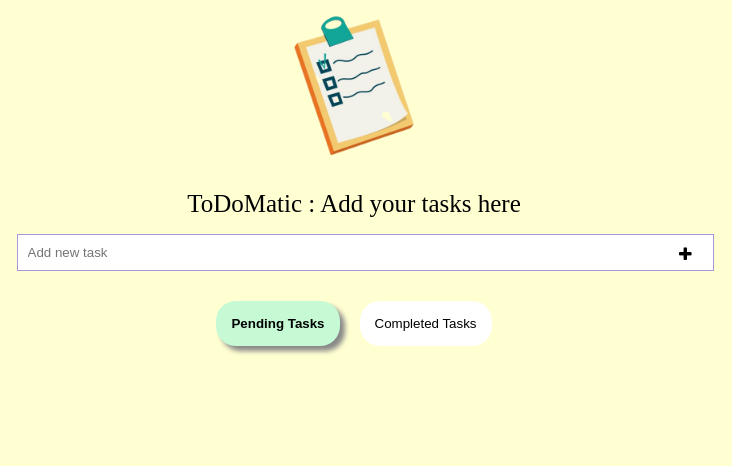
Test: Working of filter buttons › list of completed tasks to be shown if completedTasks button is active
Type "Homework at 4PM" into the field with test id "input-field" at (365,252), box top-left (16, 234), bottom-right (714, 271)
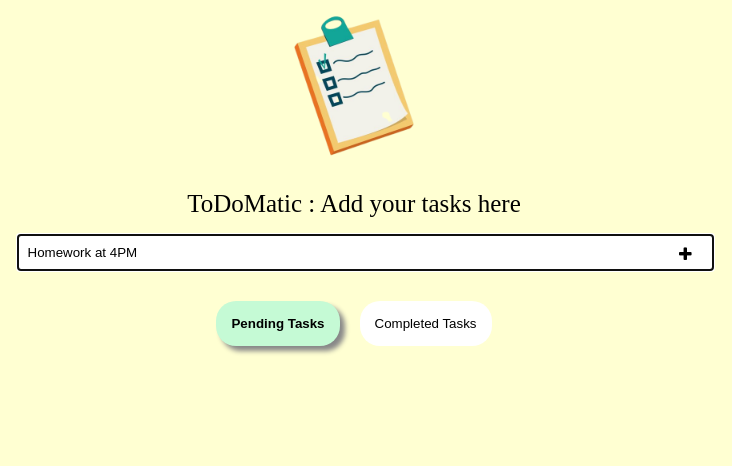
Click the icon with test id "plus icon" at (685,254), box top-left (679, 246), bottom-right (692, 262)
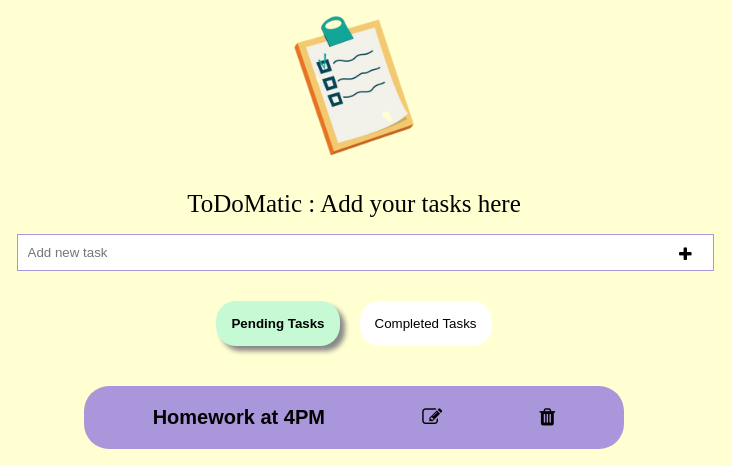
Click the icon with test id "deleteIcon" at (547,417), box top-left (540, 407), bottom-right (555, 427)
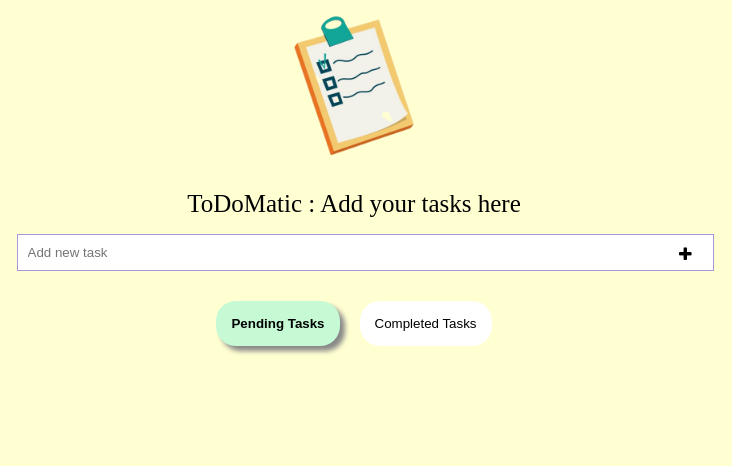
Click the button with test id "completedTasksBtn" at (426,324), box top-left (360, 301), bottom-right (492, 346)
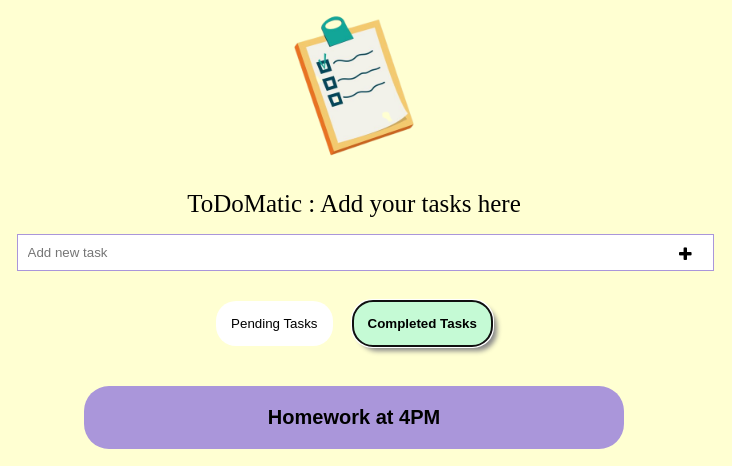
Expected: the button "Homework at 4PM" is shown, top-left (84, 386), bottom-right (624, 449)
